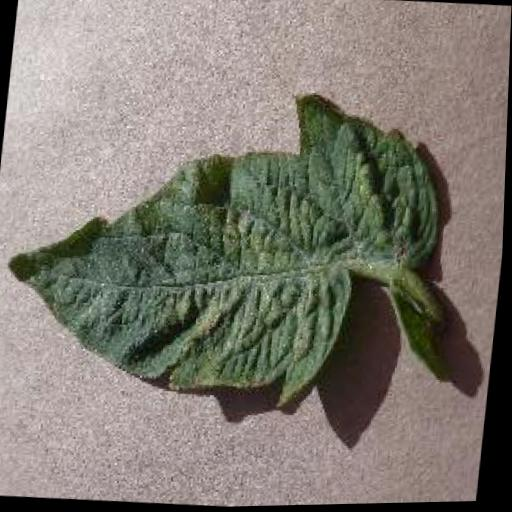Spider Mites: (0, 74, 459, 424)
